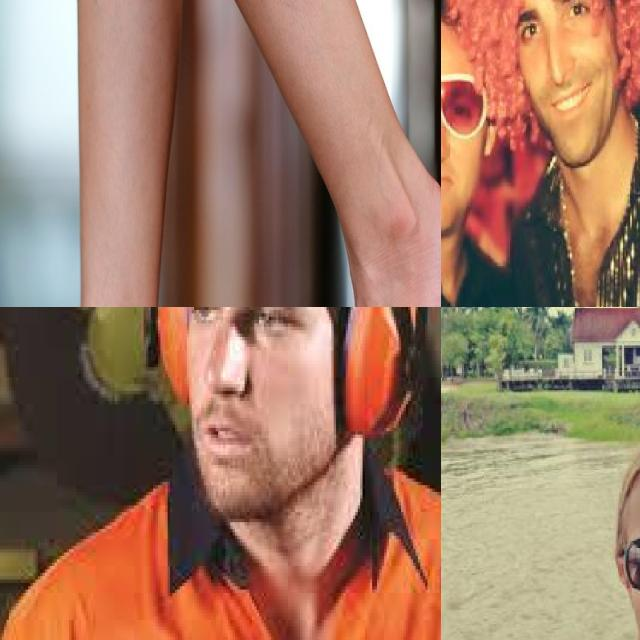Ear-protection: (136, 307, 436, 427)
Sandals: (306, 173, 441, 307)
face_nomask: (512, 0, 617, 131), (441, 70, 486, 205)
glasses: (441, 67, 488, 141)
head_nohelmet: (612, 443, 640, 512), (441, 0, 476, 52)
